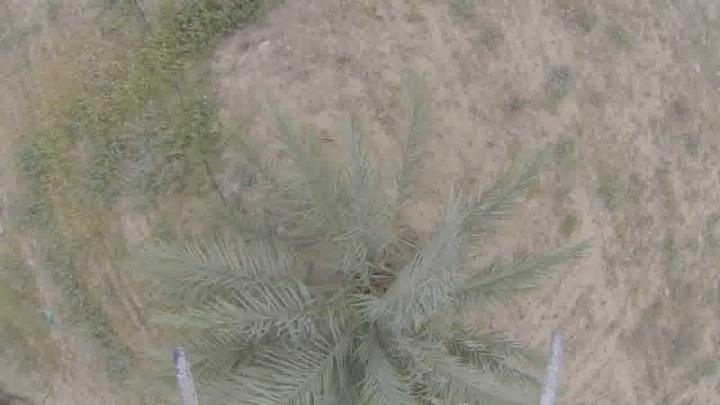Date-Palm-Crown: (232, 227, 461, 404)
